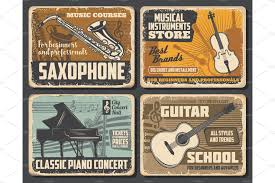Piano: (31, 98, 116, 171)
Saxophone: (35, 6, 142, 75)
Violin: (199, 10, 242, 85)
